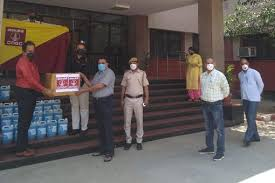mask: (200, 56, 217, 72), (237, 53, 251, 71), (96, 56, 111, 72), (23, 41, 35, 58), (76, 41, 87, 58), (125, 60, 138, 72), (184, 47, 195, 55)
